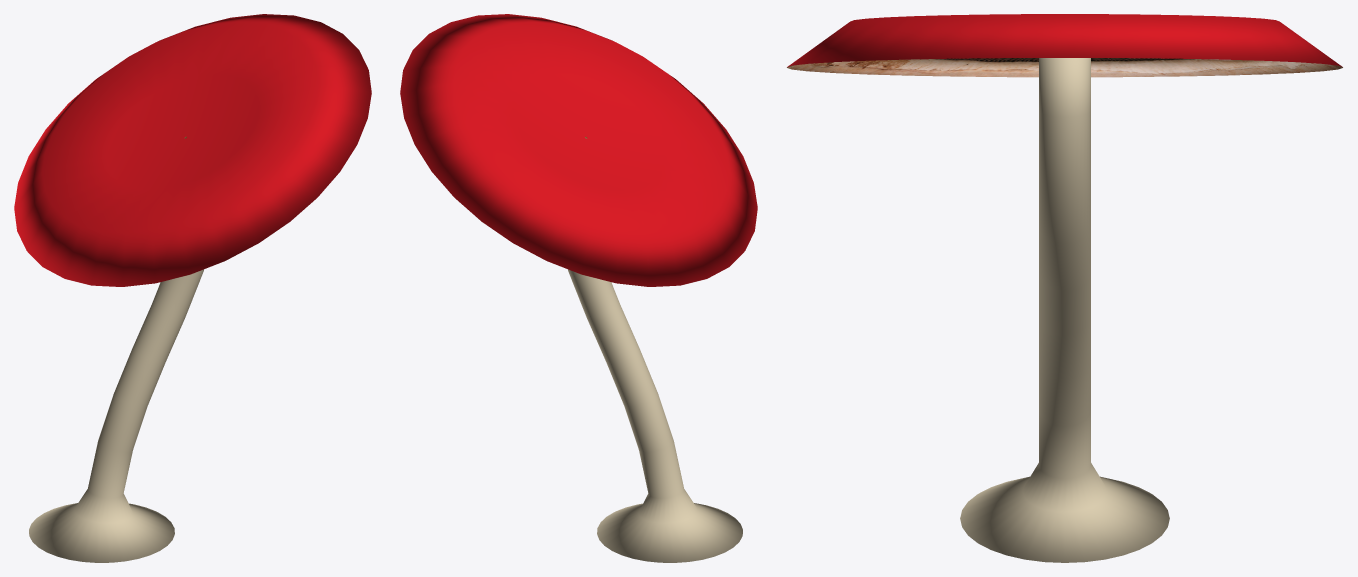
File: champi24.fbx
3 renders of one model, left to right at view 1: azimuth 30°, elevation 25°; view 2: azimuth 150°, elevation 25°; view 3: azimuth 270°, elevation 25°, orthographic. The views are drawn at different scales.
Parts seen in each view (by area): view 1: Cylinder_001; view 2: Cylinder_001; view 3: Cylinder_001.
Part boxes in pixels (x1,y1,x2,y2): Cylinder_001: (14, 14, 371, 562); Cylinder_001: (400, 14, 757, 562); Cylinder_001: (787, 14, 1342, 562).
Bounding box in the file's own units: 96.08 × 135 × 106.
